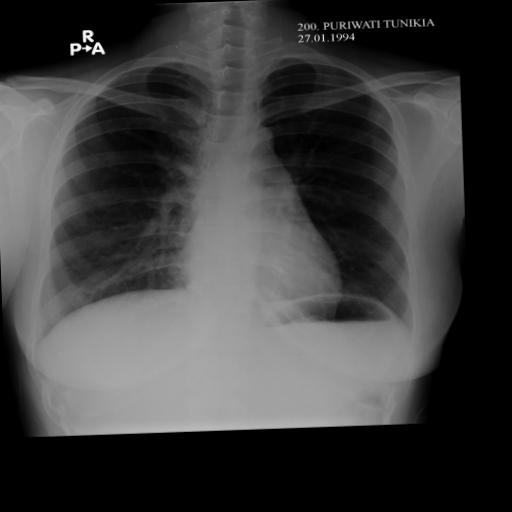normal: (9, 35, 437, 354)
